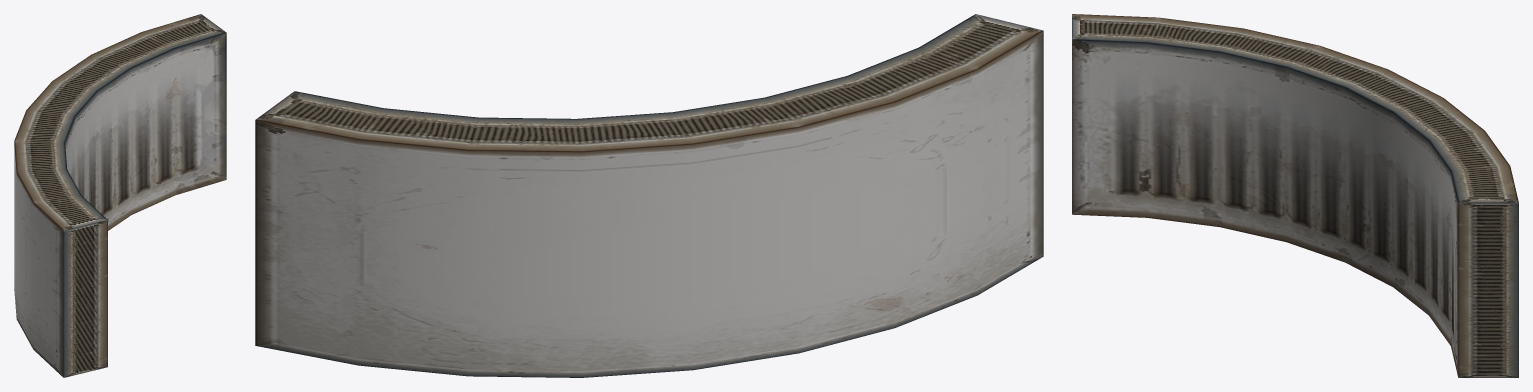
File: scifi_wall_curve2_half_1.FBX
3 renders of one model, left to right at view 1: azimuth 30°, elevation 25°; view 2: azimuth 150°, elevation 25°; view 3: azimuth 270°, elevation 25°, orthographic. The views are drawn at different scales.
Visible parts, largest first — view 1: half016; view 2: half016; view 3: half016.
Part boxes in pixels (left/top/right/bottom): half016: left=14, top=14, right=226, bottom=377; half016: left=255, top=14, right=1043, bottom=377; half016: left=1072, top=14, right=1518, bottom=377.
Bounding box in the file's own units: 294 × 127 × 294.
